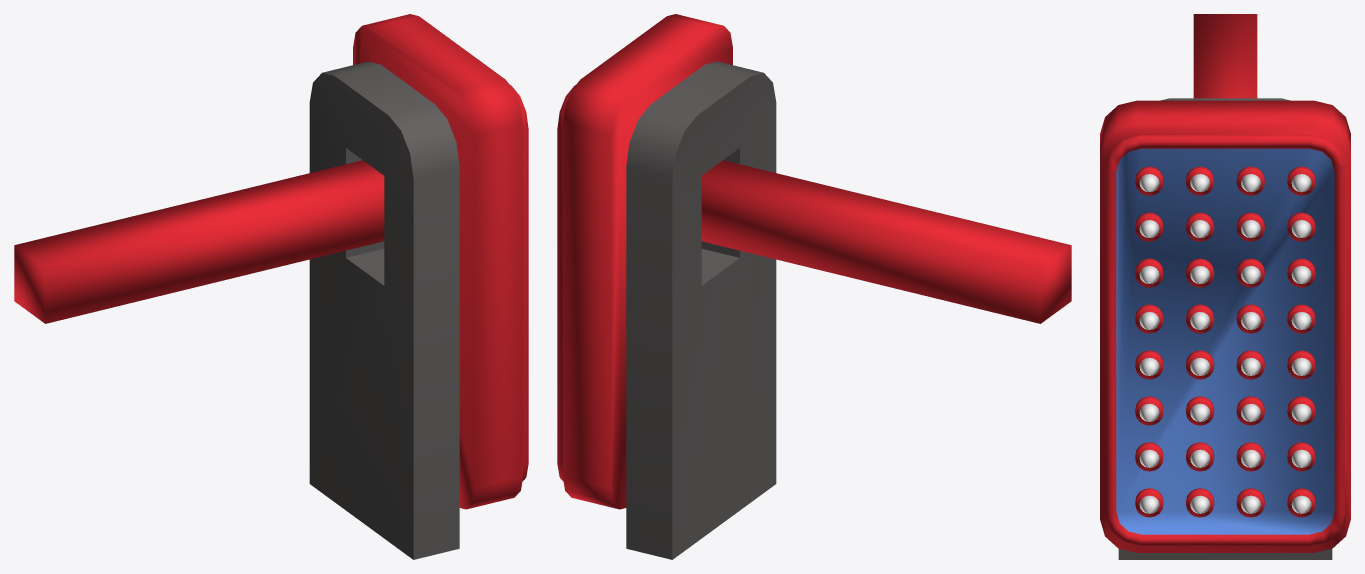
File: Obstacle 9 V1.fbx
The picture shows the model from 3 angles, left to right: view 1: azimuth 30°, elevation 25°; view 2: azimuth 150°, elevation 25°; view 3: azimuth 270°, elevation 25°; orthographic projection. The views are drawn at different scales.
Visible parts, largest first — view 1: O9 Part 1, O9 Part 2; view 2: O9 Part 1, O9 Part 2; view 3: O9 Part 1, O9 Part 2.
Part boxes in pixels (x1,y1,x2,y2): O9 Part 1: [14, 14, 528, 509]; O9 Part 2: [309, 61, 459, 559]; O9 Part 1: [557, 14, 1071, 509]; O9 Part 2: [626, 61, 776, 559]; O9 Part 1: [1100, 14, 1350, 552]; O9 Part 2: [1118, 98, 1332, 559].
Bounding box in the file's own units: 142 × 133 × 65.29.
Materials: 1 (1 with a texture image).
